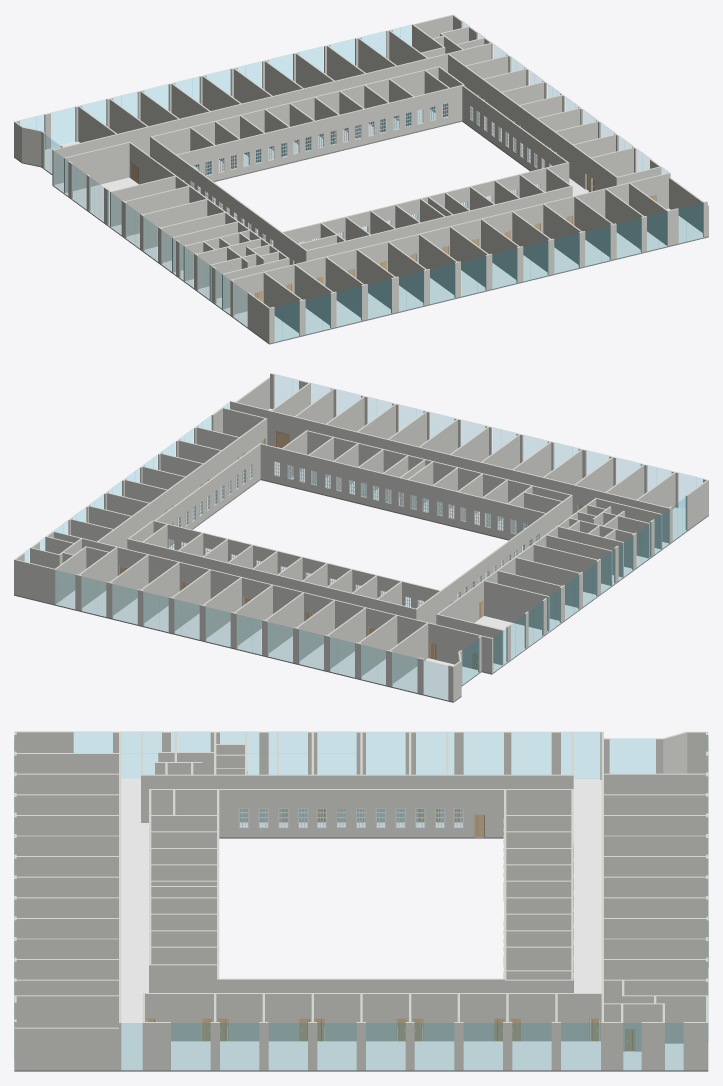
File: 5楼墙体.gltf
3 views of the same model, one above another, from view 1: azimuth 30°, elevation 25°; view 2: azimuth 150°, elevation 25°; view 3: azimuth 270°, elevation 25° (orthographic). The views are drawn at different scales.
Parts seen in each view (by area): view 1: 常规 140 - 20+120 [733315], 常规 - 200mm 2 [727917], 常规 - 200mm 2 [535309], 常规 - 200mm 2 [531928], 常规 - 200mm 2 [538774], 常规 - 200mm 2 [541075], 常规 - 200mm 2 [726721], 常规 - 200mm 2 [621058], 常规 - 200mm 2 [540299], 常规 - 200mm 2 [727738], 常规 - 200mm 2 [537383], 常规 - 200mm 2 [620616] (+45 smaller); view 2: 常规 140 - 20+120 [733315], 常规 - 200mm 2 [726721], 常规 - 200mm 2 [531928], 常规 - 200mm 2 [535309], 常规 - 200mm 2 [727917], 常规 - 200mm 2 [538774], 常规 - 200mm 2 [541075], 常规 - 200mm 2 [621058], 常规 - 200mm 2 [540299], 常规 - 200mm 2 [727738], 常规 - 200mm 2 [537455], 常规 - 200mm 2 [620616] (+47 smaller); view 3: 常规 140 - 20+120 [733315], 常规 - 200mm 2 [538774], 常规 - 200mm 2 [621058], 常规 - 200mm 2 [620616], 常规 - 200mm 2 [717522], 常规 - 200mm 2 [727738], 常规 - 200mm 2 [535894], 常规 - 200mm 2 [536398], 常规 - 200mm 2 [536844], 常规 - 200mm 2 [533426], 常规 - 200mm 2 [533856], 常规 - 200mm 2 [536081] (+56 smaller).
Boxes of the visible parts, x1,y1,x2,y2 form: 常规 140 - 20+120 [733315]: [14, 107, 708, 344]; 常规 - 200mm 2 [727917]: [177, 85, 462, 185]; 常规 - 200mm 2 [535309]: [230, 172, 670, 314]; 常规 - 200mm 2 [531928]: [54, 43, 491, 184]; 常规 - 200mm 2 [538774]: [448, 54, 618, 192]; 常规 - 200mm 2 [541075]: [150, 66, 438, 156]; 常规 - 200mm 2 [726721]: [282, 162, 569, 243]; 常规 - 200mm 2 [621058]: [151, 137, 306, 264]; 常规 - 200mm 2 [540299]: [305, 185, 572, 261]; 常规 - 200mm 2 [727738]: [461, 85, 567, 170]; 常规 - 200mm 2 [537383]: [64, 141, 130, 192]; 常规 - 200mm 2 [620616]: [129, 142, 287, 259]; 常规 140 - 20+120 [733315]: [14, 408, 708, 702]; 常规 - 200mm 2 [726721]: [259, 443, 545, 544]; 常规 - 200mm 2 [531928]: [54, 531, 490, 672]; 常规 - 200mm 2 [535309]: [230, 401, 670, 543]; 常规 - 200mm 2 [727917]: [155, 521, 440, 608]; 常规 - 200mm 2 [538774]: [97, 418, 267, 548]; 常规 - 200mm 2 [541075]: [128, 538, 417, 619]; 常规 - 200mm 2 [621058]: [416, 495, 571, 624]; 常规 - 200mm 2 [540299]: [306, 430, 572, 514]; 常规 - 200mm 2 [727738]: [153, 444, 260, 545]; 常规 - 200mm 2 [537455]: [484, 580, 549, 631]; 常规 - 200mm 2 [620616]: [437, 498, 596, 622]; 常规 140 - 20+120 [733315]: [14, 778, 708, 1071]; 常规 - 200mm 2 [538774]: [142, 993, 601, 1041]; 常规 - 200mm 2 [621058]: [151, 789, 571, 837]; 常规 - 200mm 2 [620616]: [143, 774, 571, 822]; 常规 - 200mm 2 [717522]: [14, 1027, 118, 1070]; 常规 - 200mm 2 [727738]: [219, 978, 506, 1026]; 常规 - 200mm 2 [535894]: [14, 995, 118, 1027]; 常规 - 200mm 2 [536398]: [16, 876, 118, 897]; 常规 - 200mm 2 [536844]: [16, 773, 118, 794]; 常规 - 200mm 2 [533426]: [604, 876, 705, 897]; 常规 - 200mm 2 [533856]: [604, 773, 705, 794]; 常规 - 200mm 2 [536081]: [16, 959, 118, 979].
Size of the model in its own units: 59.48 by 4.64 by 59.89.
